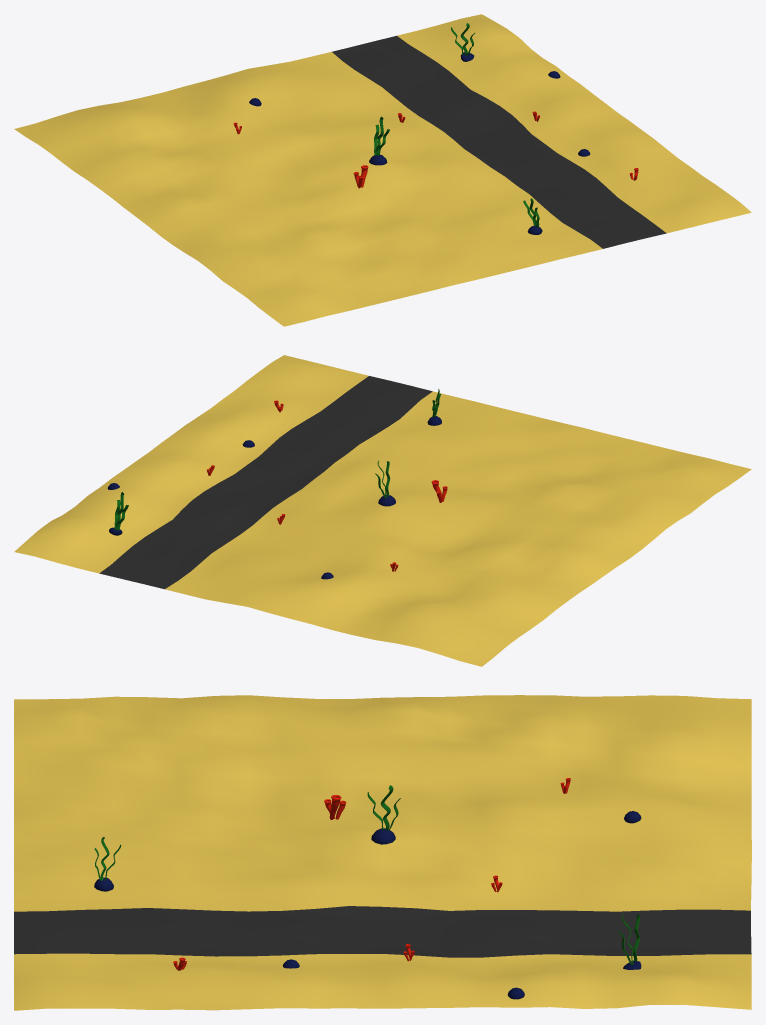
File: Piso.fbx
The picture shows the model from 3 angles, top to bottom: view 1: azimuth 30°, elevation 25°; view 2: azimuth 150°, elevation 25°; view 3: azimuth 270°, elevation 25°; orthographic projection. The views are drawn at different scales.
Visible parts, largest first — view 1: Plane; view 2: Plane; view 3: Plane.
Boxes of the visible parts, x1,y1,x2,y2 form: Plane: [14, 14, 751, 326]; Plane: [14, 355, 751, 666]; Plane: [14, 695, 751, 1010].
Bounding box in the file's own units: 3003 × 334 × 3002.
